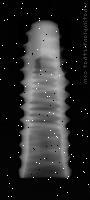Hiossen: (16, 19, 71, 179)
